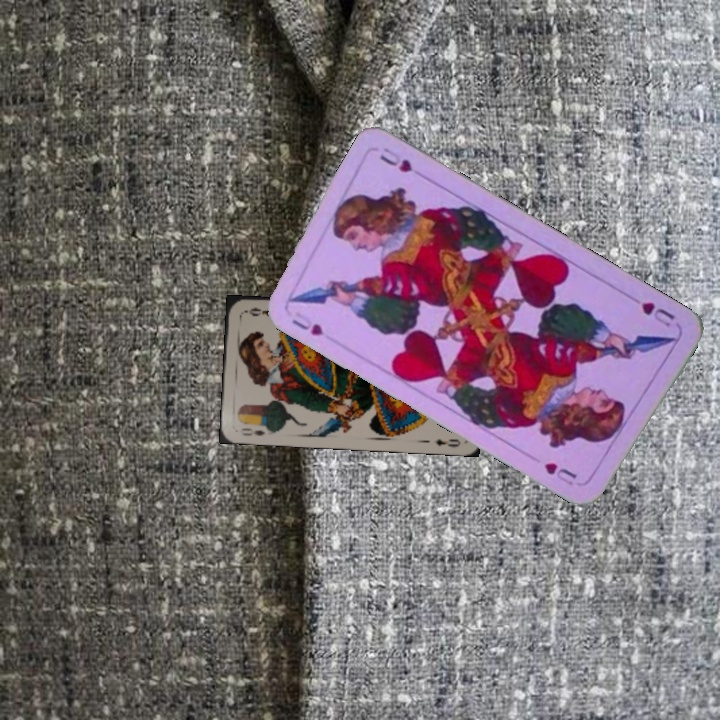EO: (237, 424, 268, 439)
HU: (637, 297, 678, 330), (287, 307, 326, 339)
